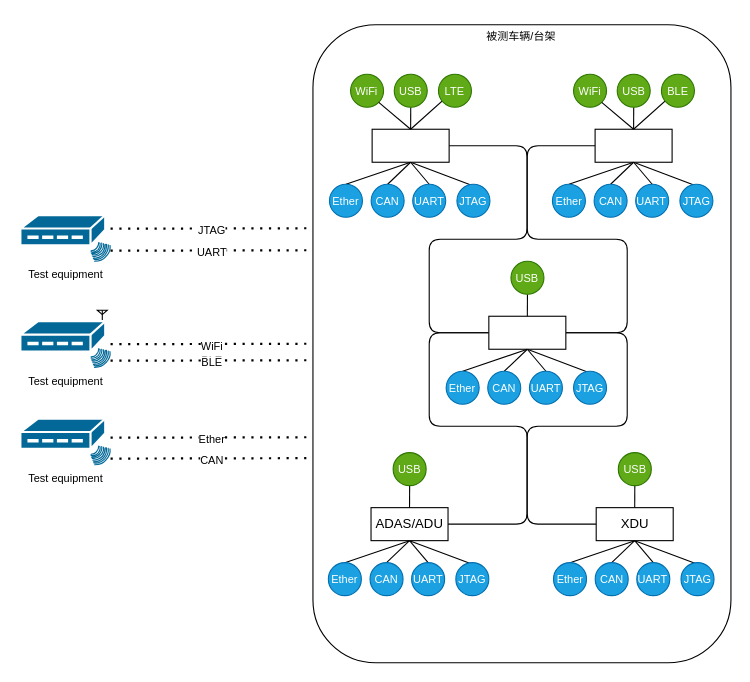
This 750x682 diagram has some shape labels left out. The box of each missing label's shape, as (x1, y1, x2, y2) in pixels:
GW: (488, 315, 566, 349)
IVI: (594, 128, 672, 162)
T-Box: (371, 128, 449, 162)
